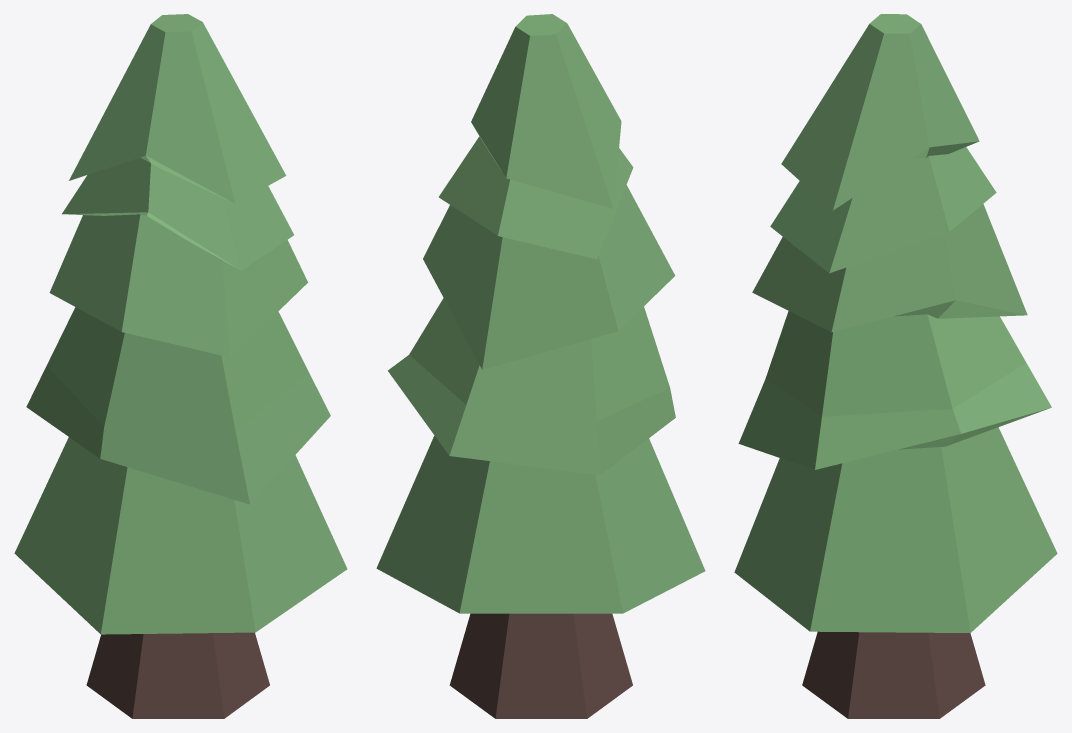
The model's file is Trees Christmas type.fbx.
3 views of the same model, side by side, from view 1: azimuth 30°, elevation 25°; view 2: azimuth 150°, elevation 25°; view 3: azimuth 270°, elevation 25° (orthographic).
Visible parts, largest first — view 1: Cylinder.001, Cylinder.002, Cylinder.003, Cylinder.005, Cylinder, Cylinder.004; view 2: Cylinder.001, Cylinder.002, Cylinder.003, Cylinder.005, Cylinder, Cylinder.004; view 3: Cylinder.001, Cylinder.002, Cylinder.005, Cylinder.003, Cylinder.004, Cylinder.
Part boxes in pixels (bbox=[...]): Cylinder.001: bbox=[14, 437, 347, 634]; Cylinder.002: bbox=[26, 307, 330, 504]; Cylinder.003: bbox=[49, 214, 307, 357]; Cylinder.005: bbox=[69, 14, 286, 203]; Cylinder: bbox=[86, 632, 269, 718]; Cylinder.004: bbox=[62, 157, 293, 270]; Cylinder.001: bbox=[376, 435, 705, 613]; Cylinder.002: bbox=[388, 298, 675, 474]; Cylinder.003: bbox=[423, 185, 675, 369]; Cylinder.005: bbox=[471, 14, 621, 208]; Cylinder: bbox=[449, 613, 632, 718]; Cylinder.004: bbox=[439, 136, 633, 259]; Cylinder.001: bbox=[734, 427, 1057, 632]; Cylinder.002: bbox=[738, 311, 1051, 469]; Cylinder.005: bbox=[781, 14, 979, 210]; Cylinder.003: bbox=[752, 204, 1027, 332]; Cylinder.004: bbox=[770, 147, 996, 273]; Cylinder: bbox=[802, 631, 985, 718].
Bounding box in the file's own units: 315 × 796 × 352.
